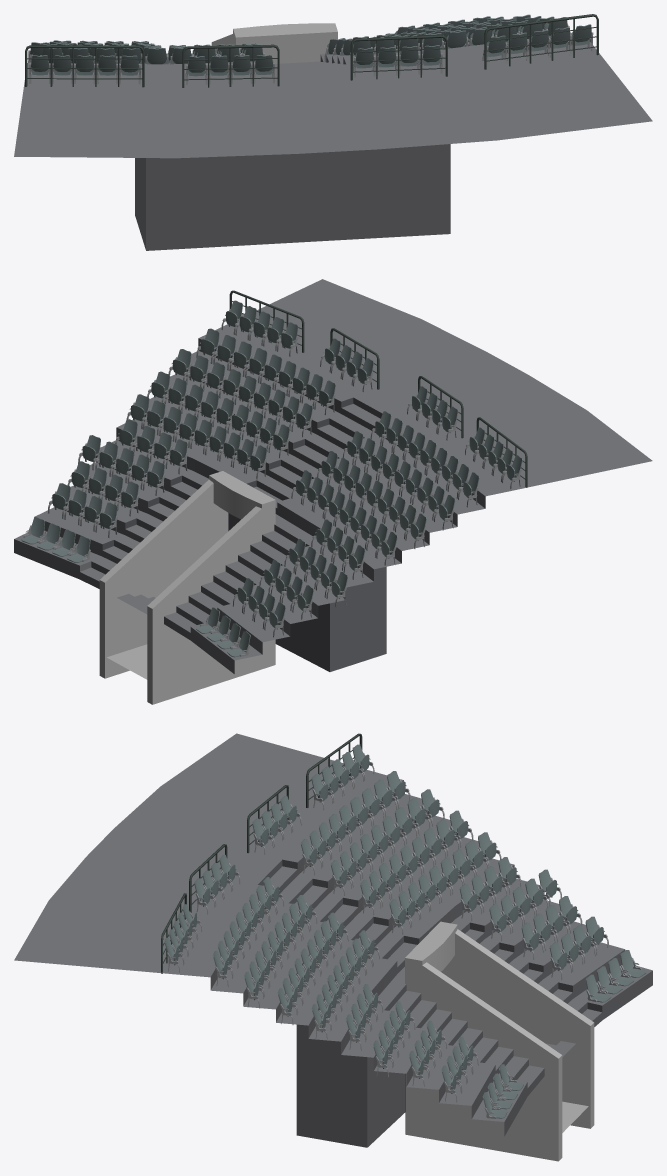
File: MCM_2F_Step_002.fbx
3 renders of one model, top to bottom at view 1: azimuth 30°, elevation 25°; view 2: azimuth 150°, elevation 25°; view 3: azimuth 270°, elevation 25°, orthographic. The views are drawn at different scales.
Parts seen in each view (by area): view 1: MCM_2F_Step_002; view 2: MCM_2F_Step_002; view 3: MCM_2F_Step_002.
Part boxes in pixels (x1,y1,x2,y2): MCM_2F_Step_002: (14,14,652,250); MCM_2F_Step_002: (14,279,652,704); MCM_2F_Step_002: (14,733,652,1161).
Size of the model in its own units: 17.3 by 17.39 by 7.64.
Materials: 2 (2 with a texture image).
